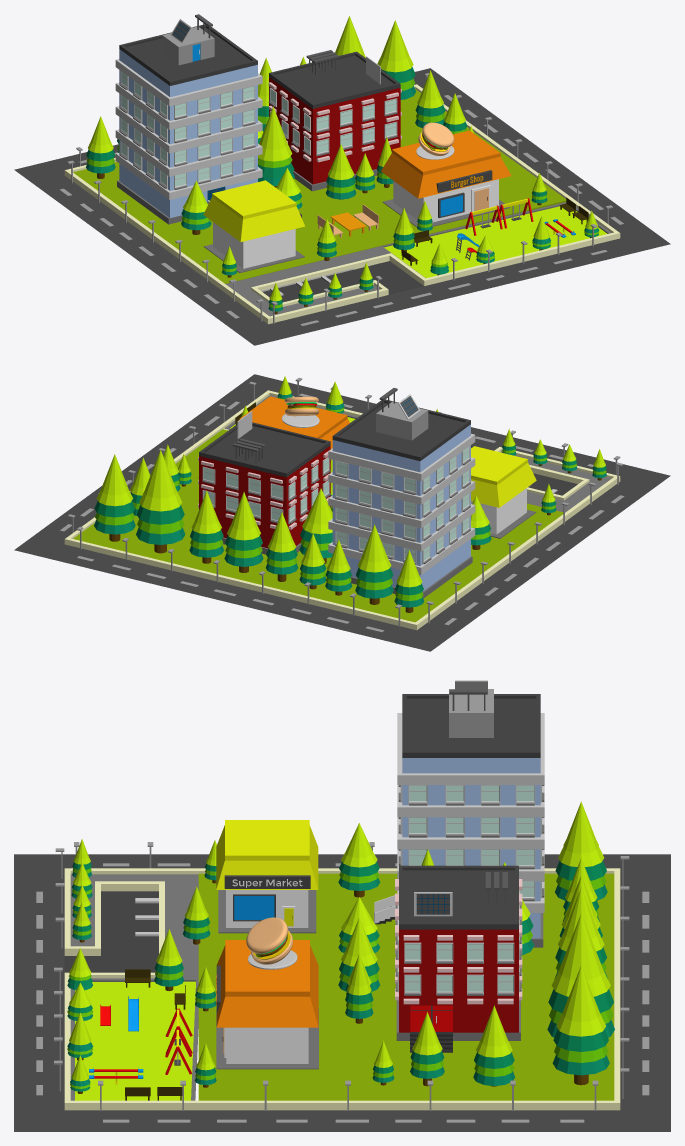
The model's file is city.glb.
The picture shows the model from 3 angles, top to bottom: view 1: azimuth 30°, elevation 25°; view 2: azimuth 150°, elevation 25°; view 3: azimuth 270°, elevation 25°; orthographic projection. The views are drawn at different scales.
Parts seen in each view (by area): view 1: pPlane1, Grass, Building.001, Building, pPlane2, pPlane14, pPlane10, pCube6, Super_Market_2:pCube6, Super_Market_2:pCube1, pCube1, pCube29 (+19 smaller); view 2: Building.001, Grass, pPlane1, Building, pPlane12, pPlane14, pPlane10, Super_Market_2:pCube6, pPlane2, pCube6, pCylinder11.016, pCube29 (+24 smaller); view 3: Grass, pPlane1, Building, Building.001, pPlane10, pPlane12, pPlane2, pCube6, Super_Market_2:pCube6, pCube1, pPlane14, pCube29 (+26 smaller).
Part boxes in pixels (box(x1,y1,x2,y2)): pPlane1: box(64, 84, 620, 324); Grass: box(73, 89, 566, 283); Building.001: box(117, 24, 257, 224); Building: box(269, 51, 400, 191); pPlane2: box(268, 238, 638, 337); pPlane14: box(33, 175, 267, 331); pPlane10: box(423, 82, 651, 238); pCube6: box(381, 130, 511, 198); Super_Market_2:pCube6: box(203, 180, 305, 241); Super_Market_2:pCube1: box(213, 222, 295, 268); pCube1: box(393, 179, 498, 222); pCube29: box(115, 59, 262, 106); Building.001: box(332, 399, 472, 598); Grass: box(73, 429, 563, 622); pPlane1: box(64, 390, 620, 630); Building: box(199, 422, 330, 554); pPlane12: box(46, 544, 416, 643); pPlane14: box(417, 481, 651, 637); pPlane10: box(33, 388, 261, 544); Super_Market_2:pCube6: box(471, 446, 536, 507); pPlane2: box(274, 382, 638, 480); pCube6: box(239, 396, 349, 448); pCylinder11.016: box(139, 450, 182, 511); pCube29: box(328, 433, 475, 481); Grass: box(198, 873, 614, 1100); pPlane1: box(64, 868, 620, 1110); Building: box(396, 865, 520, 1040); Building.001: box(402, 694, 543, 947); pPlane10: box(64, 1110, 620, 1131); pPlane12: box(620, 875, 670, 1110); pPlane2: box(14, 875, 64, 1110); pCube6: box(216, 940, 318, 1027); Super_Market_2:pCube6: box(216, 820, 318, 889); pCube1: box(226, 1027, 308, 1063); pPlane14: box(64, 854, 620, 868); pCube29: box(397, 713, 544, 784).
Bounding box in the file's own units: 0.4455 × 0.1831 × 0.4455.
